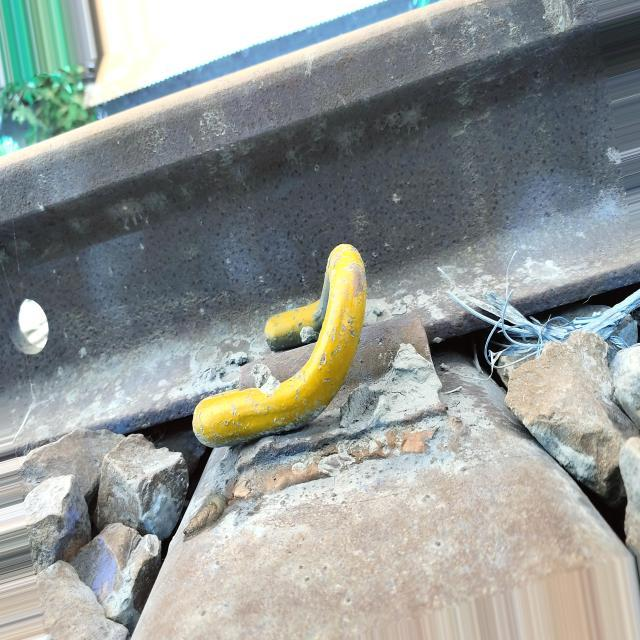Good Fasteners: (180, 244, 464, 535)
